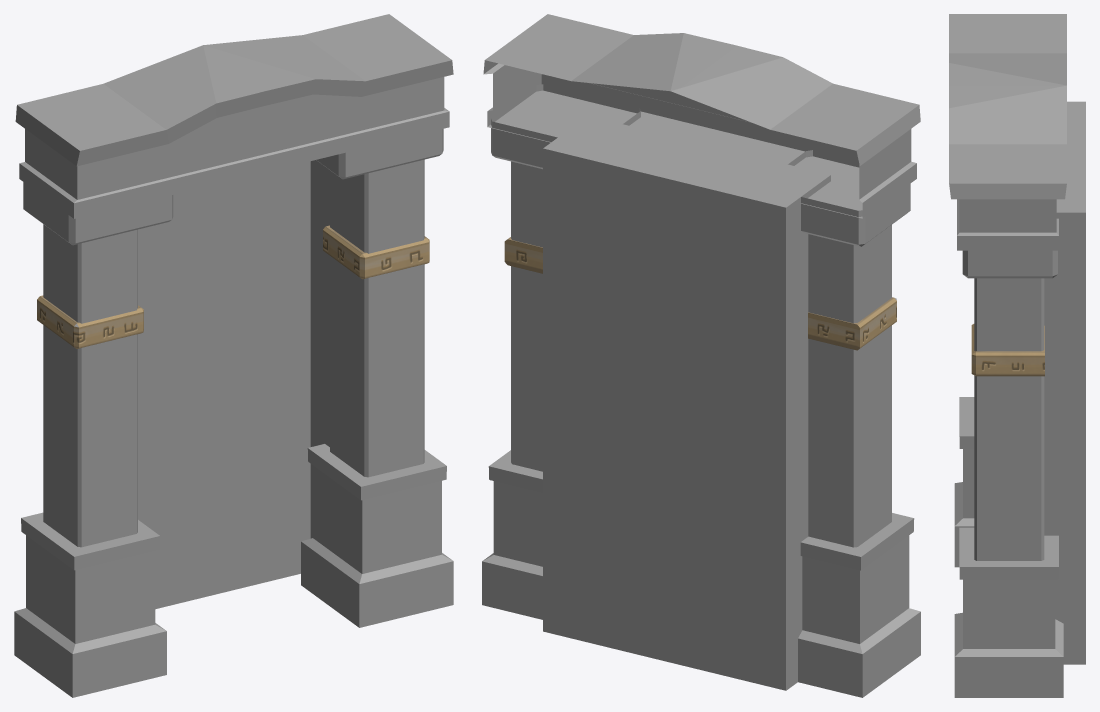
The model's file is SM_Alcove_01.fbx.
3 views of the same model, side by side, from view 1: azimuth 30°, elevation 25°; view 2: azimuth 150°, elevation 25°; view 3: azimuth 270°, elevation 25° (orthographic). The views are drawn at different scales.
Parts seen in each view (by area): view 1: SM_Alcove_01; view 2: SM_Alcove_01; view 3: SM_Alcove_01.
Part boxes in pixels (x1=…): SM_Alcove_01: x1=14, y1=14, x2=453, y2=697; SM_Alcove_01: x1=482, y1=14, x2=920, y2=697; SM_Alcove_01: x1=949, y1=14, x2=1085, y2=697.
Bounding box in the file's own units: 361 × 509 × 120.
